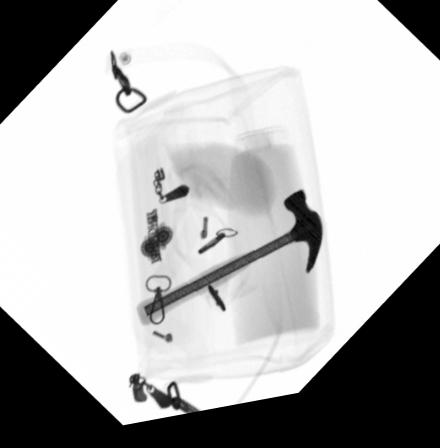Hammer: (135, 201, 324, 332)
